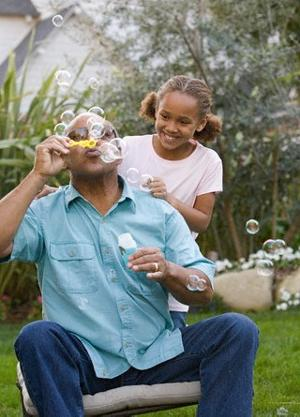person: (2, 110, 260, 417)
